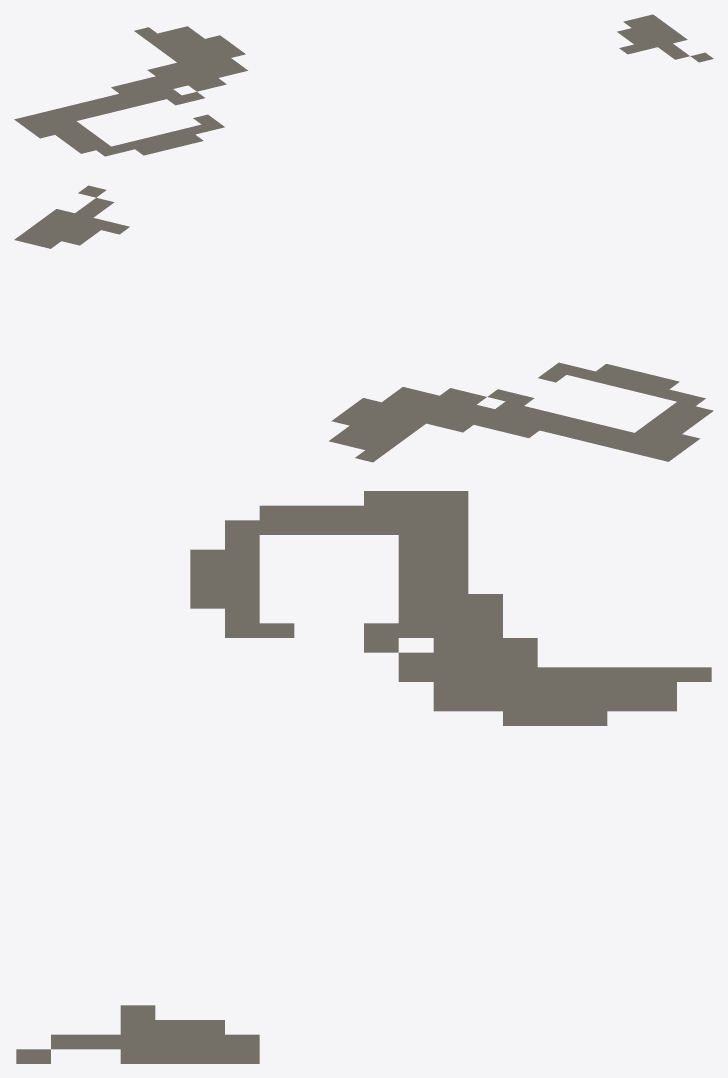
File: Isl-orc4-RocksArea.fbx
The picture shows the model from 3 angles, top to bottom: view 1: azimuth 30°, elevation 25°; view 2: azimuth 150°, elevation 25°; view 3: azimuth 270°, elevation 25°; orthographic projection. The views are drawn at different scales.
Parts seen in each view (by area): view 1: Isl-orc4-RocksArea; view 2: Isl-orc4-RocksArea; view 3: Isl-orc4-RocksArea.
Part boxes in pixels (<box>): Isl-orc4-RocksArea: <box>14,14,713,156</box>; Isl-orc4-RocksArea: <box>14,185,713,462</box>; Isl-orc4-RocksArea: <box>16,491,711,1063</box>.
Bounding box in the file's own units: 39 × 0 × 20.
